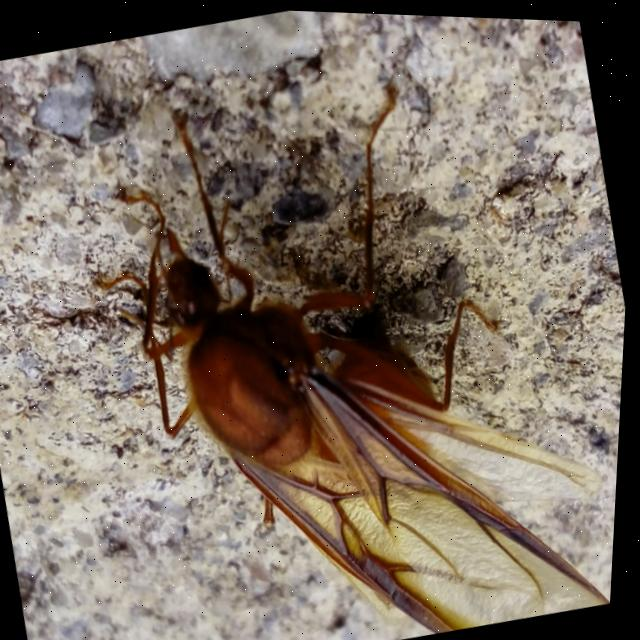Alive-Male-Alate: (50, 28, 639, 640)
